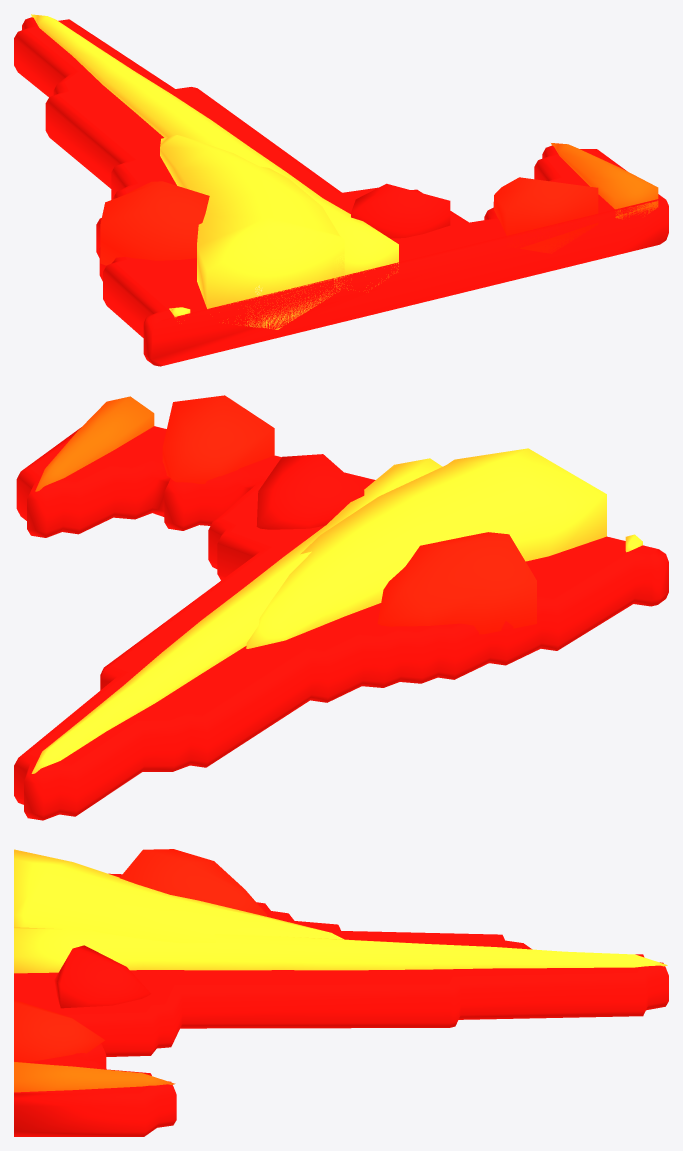
The model's file is newsh3-22.glb.
3 renders of one model, top to bottom at view 1: azimuth 30°, elevation 25°; view 2: azimuth 150°, elevation 25°; view 3: azimuth 270°, elevation 25°, orthographic. The views are drawn at different scales.
Visible parts, largest first — view 1: newsh3-22; view 2: newsh3-22; view 3: newsh3-22.
Boxes of the visible parts, x1,y1,x2,y2 form: newsh3-22: [14, 14, 668, 366]; newsh3-22: [14, 395, 668, 820]; newsh3-22: [14, 849, 668, 1136].
Bounding box in the file's own units: 2 × 0.3997 × 2.33.
